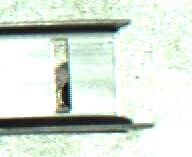40ngpress: (13, 20, 145, 131)
